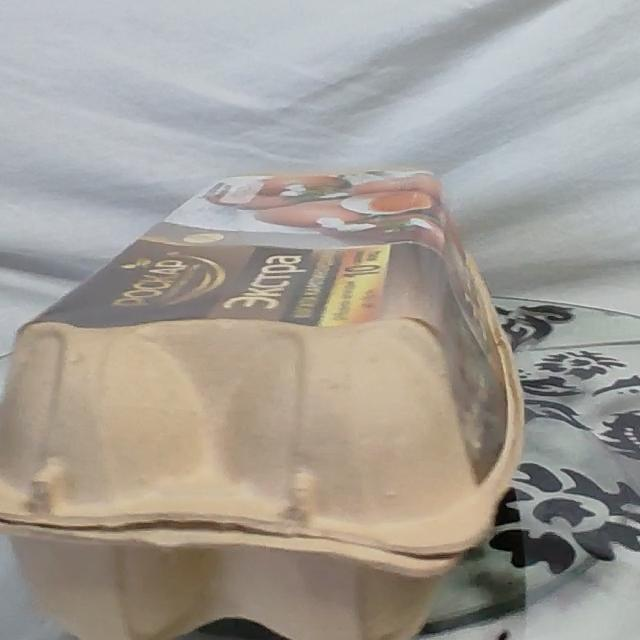egg: (0, 136, 548, 640)
